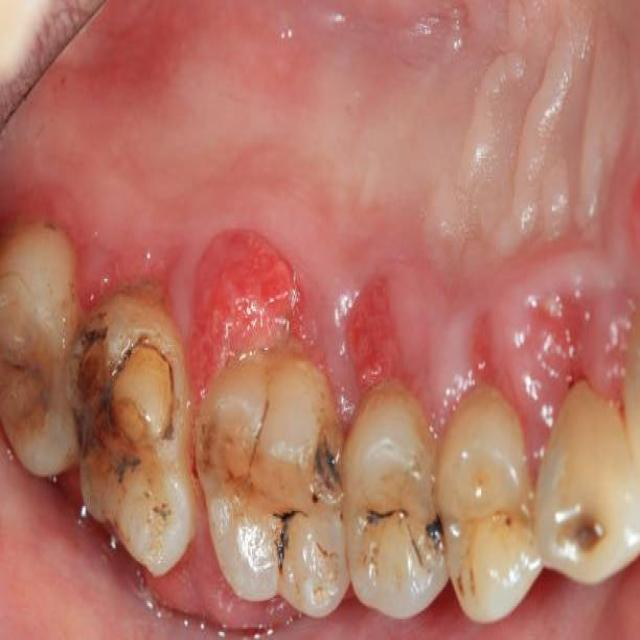caries: (64, 320, 180, 523), (0, 297, 61, 457), (553, 481, 626, 573), (304, 415, 353, 523), (212, 420, 266, 518), (350, 478, 417, 556), (474, 468, 528, 549), (262, 487, 306, 576), (409, 492, 456, 565)
